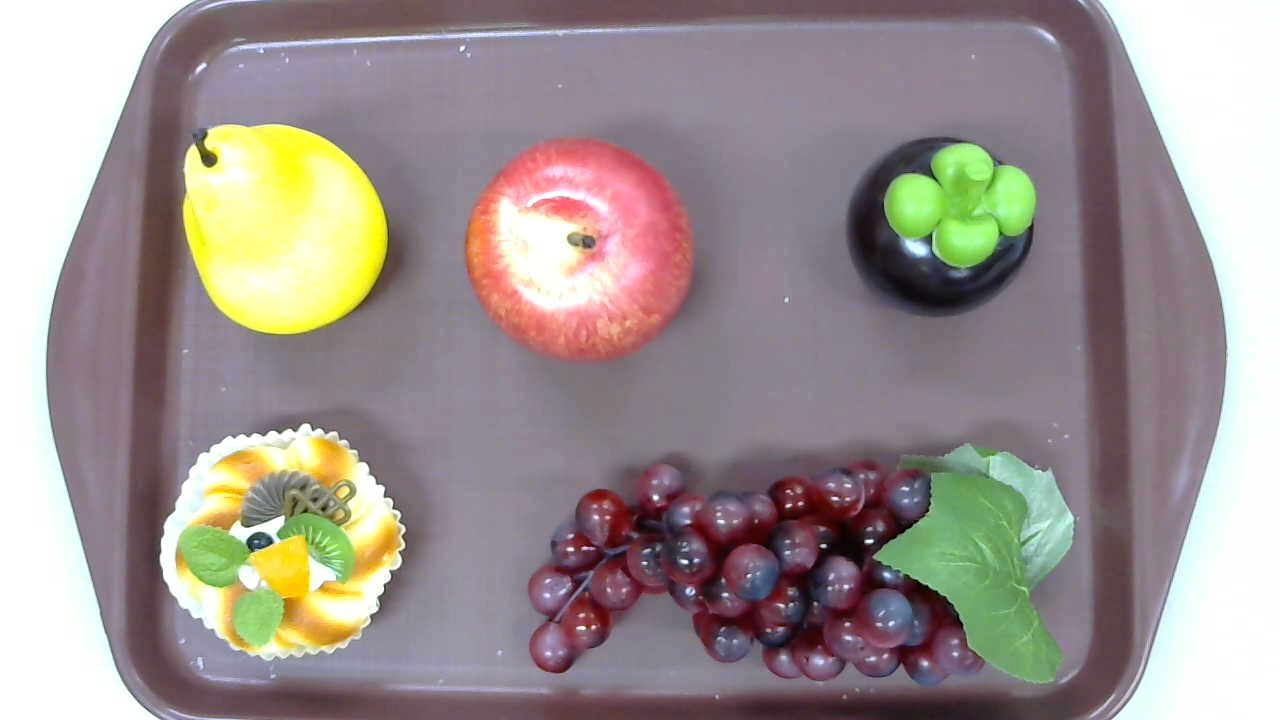fruit tart: (158, 423, 405, 663)
grape: (527, 442, 1075, 686)
mangosteen: (844, 138, 1038, 318)
red apple: (466, 136, 696, 366)
yellow pear: (182, 124, 388, 335)
